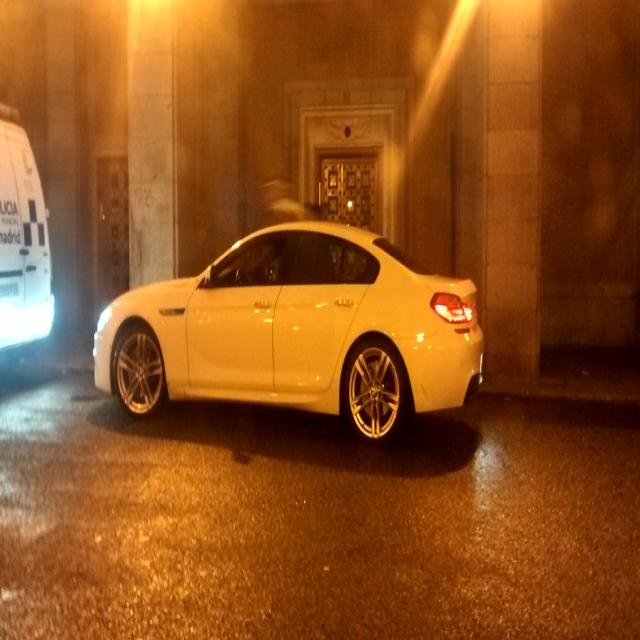car: (94, 220, 483, 441)
